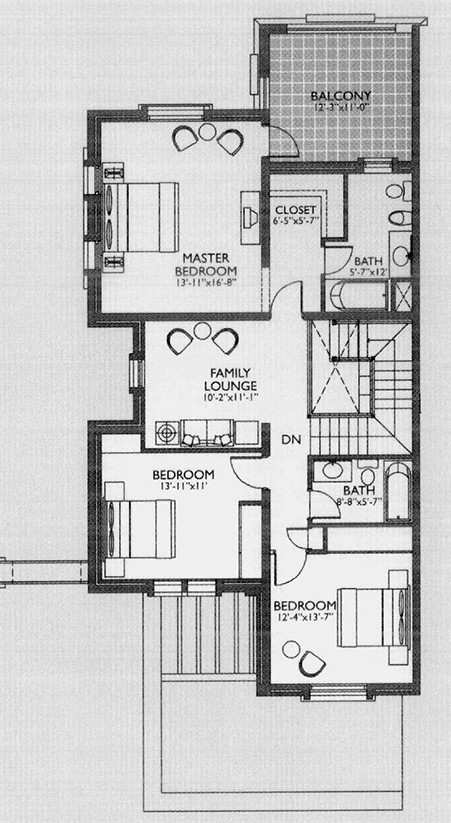wall: (410, 20, 422, 696), (85, 422, 101, 596), (261, 488, 274, 693), (86, 313, 271, 322), (310, 518, 420, 531), (204, 105, 269, 126), (266, 161, 365, 173), (89, 578, 155, 595), (305, 311, 415, 321), (257, 682, 314, 701), (261, 156, 270, 270), (87, 418, 149, 433), (90, 108, 149, 123), (84, 192, 102, 241), (367, 683, 424, 698), (86, 271, 102, 322), (216, 580, 267, 595), (257, 23, 269, 76), (89, 108, 99, 167), (132, 321, 147, 351), (131, 390, 141, 426), (387, 276, 419, 287), (389, 275, 399, 310), (319, 272, 327, 315)
